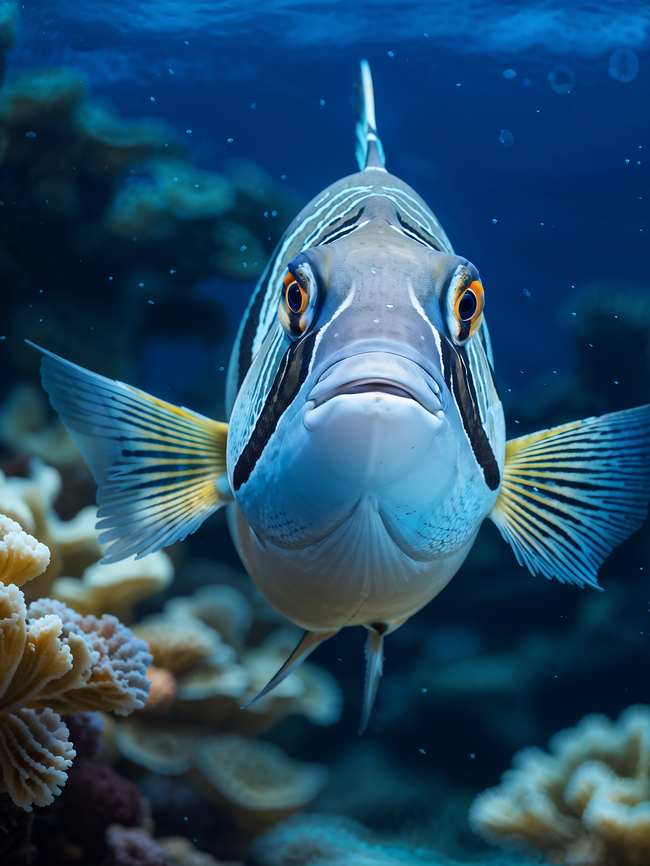fish: (45, 54, 650, 702)
